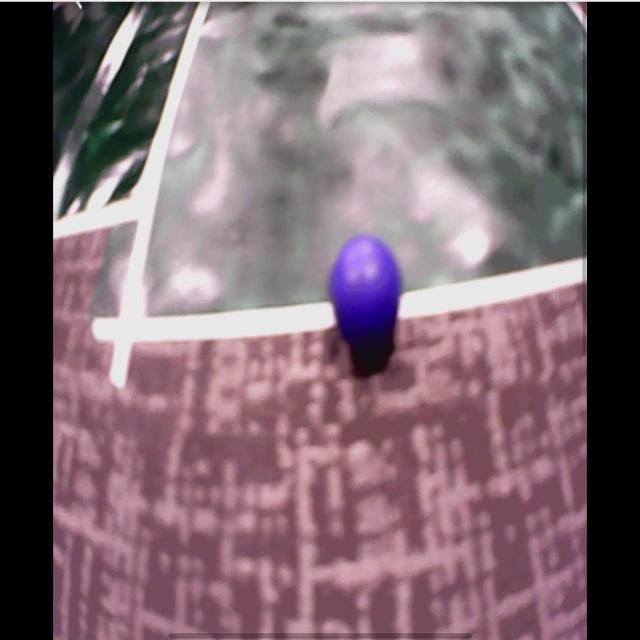ball: (332, 239, 401, 340)
